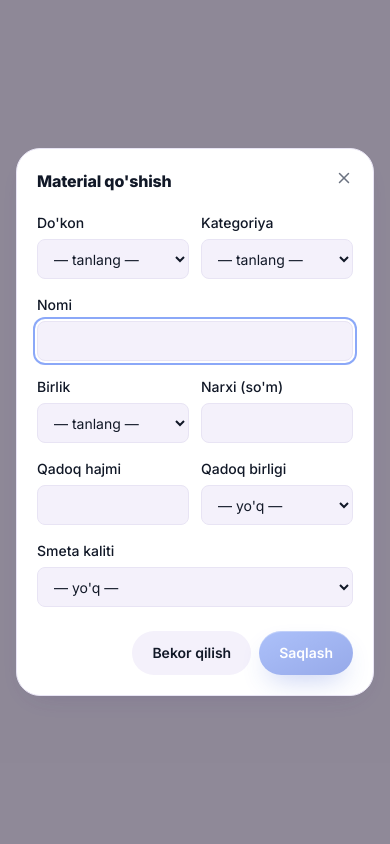
Test: MaterialFormDialog backend errors › shows the msg of a list-shaped detail, not raw JSON
Select "Qurilish Mart" in the dropdown labelled "Do'kon" at (113, 259), box top-left (37, 239), bottom-right (189, 279)
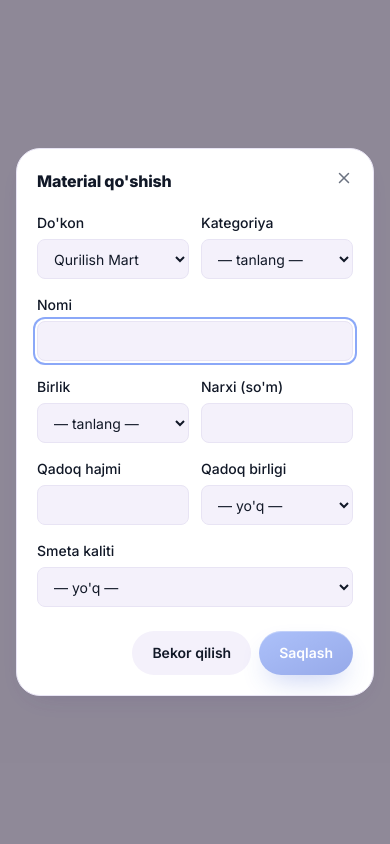
Select "Gips" in the dropdown labelled "Kategoriya" at (277, 259), box top-left (201, 239), bottom-right (353, 279)
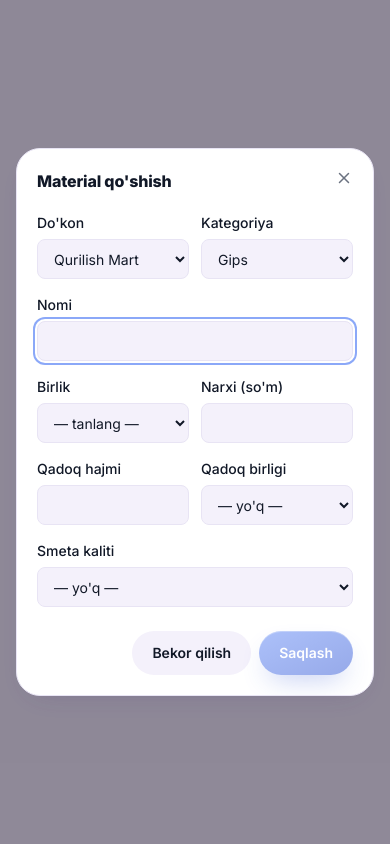
Type "  Gips suvoq " into the field labelled "Nomi" at (195, 341), box top-left (37, 321), bottom-right (353, 361)
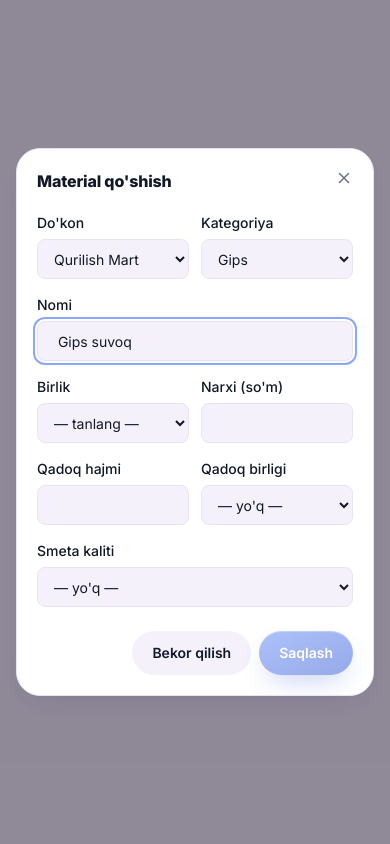
Select "qop" in the dropdown labelled "Birlik" at (113, 423), box top-left (37, 403), bottom-right (189, 443)
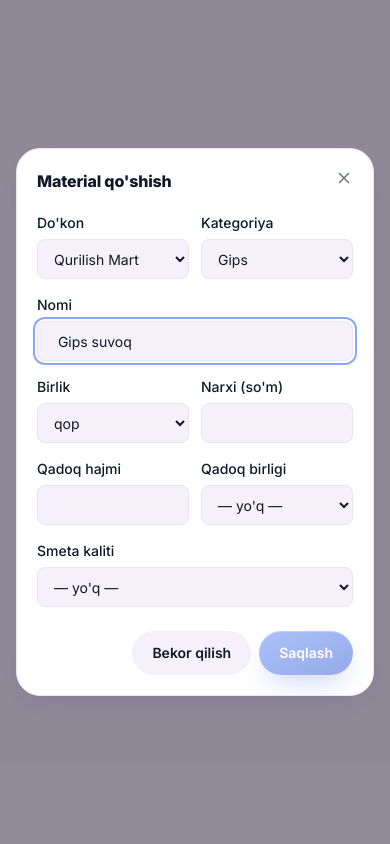
Type "125000" into the number field labelled "Narxi (so'm)" at (277, 423), box top-left (201, 403), bottom-right (353, 443)
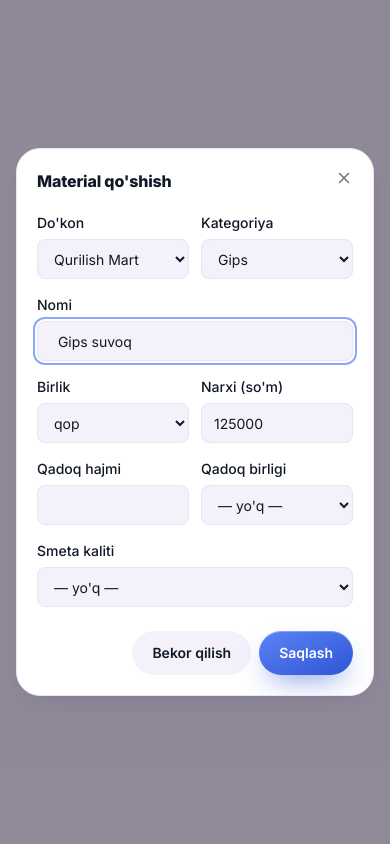
Click the button "Saqlash" at (306, 653), box top-left (259, 631), bottom-right (353, 675)
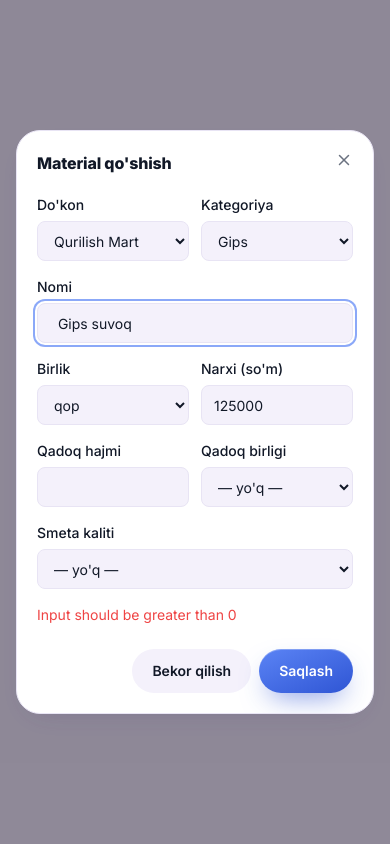
Expected: the text "Input should be greater than 0" is shown, top-left (37, 606), bottom-right (237, 623)
